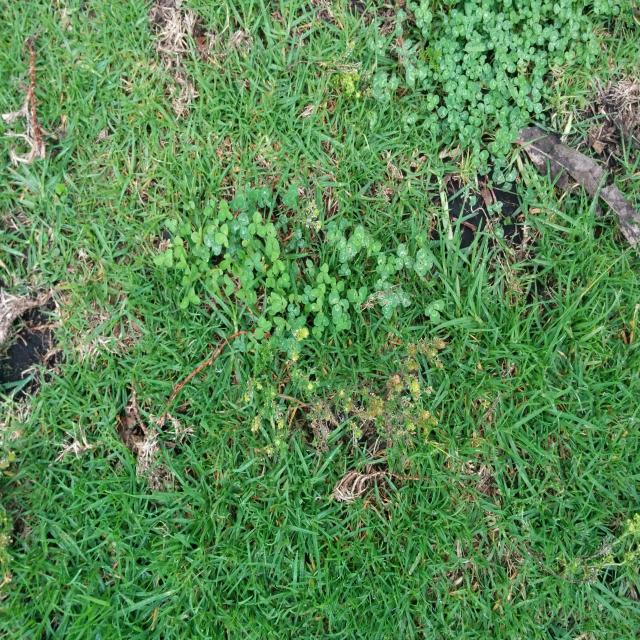Four Leaf Clover: (347, 226, 370, 253), (413, 248, 433, 276)
